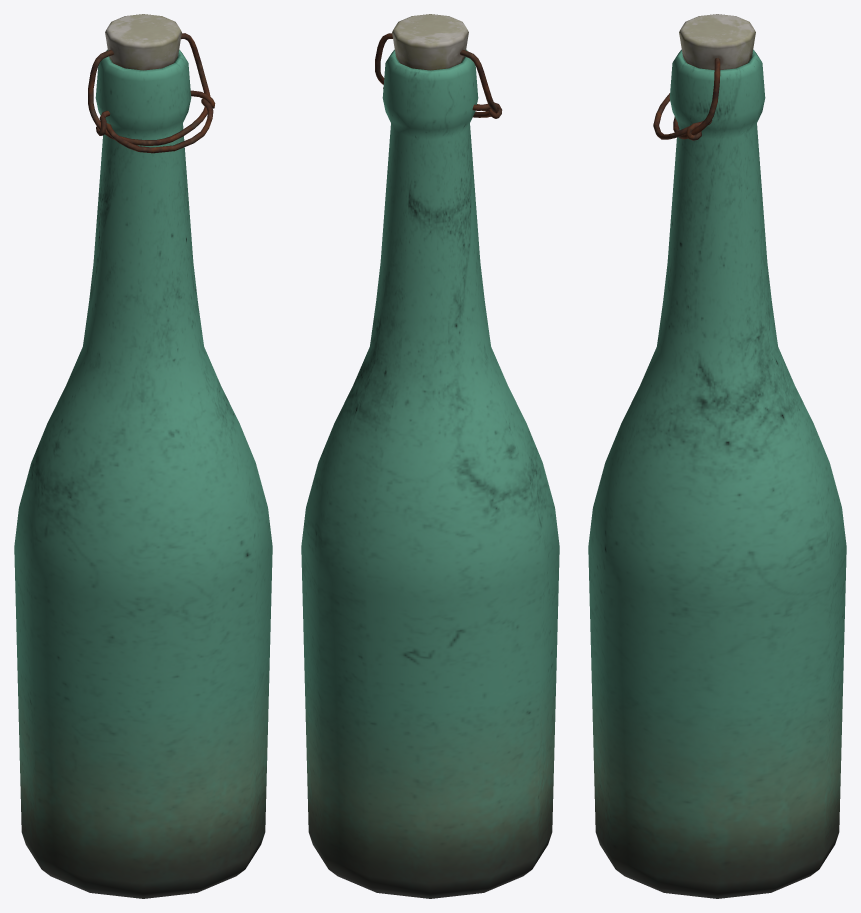
The model's file is SM_Bottle_A.fbx.
3 renders of one model, left to right at view 1: azimuth 30°, elevation 25°; view 2: azimuth 150°, elevation 25°; view 3: azimuth 270°, elevation 25°, orthographic.
Parts seen in each view (by area): view 1: SM_Bottle_A_LOD0; view 2: SM_Bottle_A_LOD0; view 3: SM_Bottle_A_LOD0.
Boxes of the visible parts, <box> form: SM_Bottle_A_LOD0: <box>14,14,272,898</box>; SM_Bottle_A_LOD0: <box>301,14,559,898</box>; SM_Bottle_A_LOD0: <box>588,14,846,898</box>.
Bounding box in the file's own units: 11.28 × 11.28 × 39.92.
Materials: 2 (2 with a texture image).
